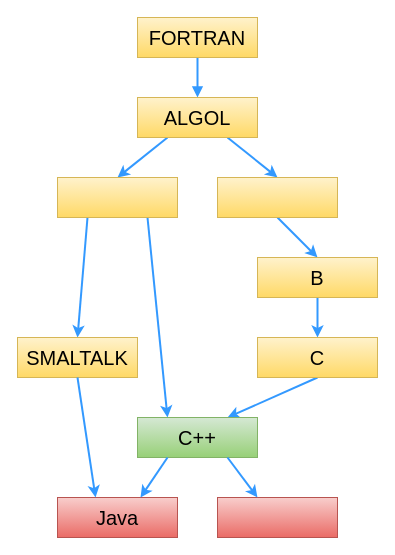
The diagram is 395 pixels wide and 555 high, and some of its shapes have lost their labels. The centre of each missing label's shape, as x and y in pixels:
BCPL: point (277, 197)
C#: point (277, 517)
SIMULA: point (117, 197)
